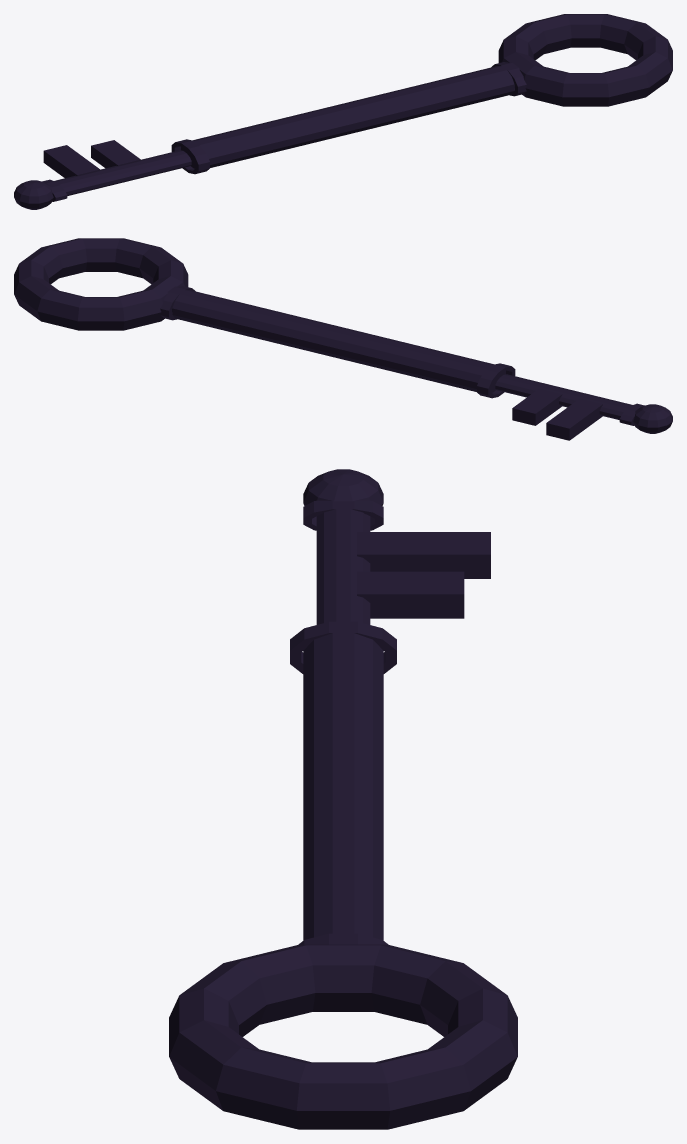
File: Chave.obj
The picture shows the model from 3 angles, top to bottom: view 1: azimuth 30°, elevation 25°; view 2: azimuth 150°, elevation 25°; view 3: azimuth 270°, elevation 25°; orthographic projection. The views are drawn at different scales.
Visible parts, largest first — view 1: cylinder, torus, cuboid, tube, sphere; view 2: cylinder, torus, cuboid, tube, sphere; view 3: torus, cylinder, cuboid, tube, sphere.
Boxes of the visible parts, x1,y1,x2,y2 form: cylinder: [49, 66, 514, 195]; torus: [498, 14, 672, 106]; cuboid: [43, 140, 140, 178]; tube: [42, 62, 526, 201]; sphere: [14, 180, 53, 209]; cylinder: [172, 290, 638, 419]; torus: [14, 238, 188, 330]; cuboid: [512, 388, 602, 440]; tube: [160, 286, 644, 425]; sphere: [633, 404, 672, 433]; torus: [169, 944, 517, 1129]; cylinder: [303, 501, 383, 940]; cuboid: [357, 532, 490, 618]; tube: [290, 500, 396, 944]; sphere: [303, 469, 383, 505].
Size of the model in its own units: 0.6937 by 0.0338 by 0.1625.
Materials: 1 (1 with a texture image).
